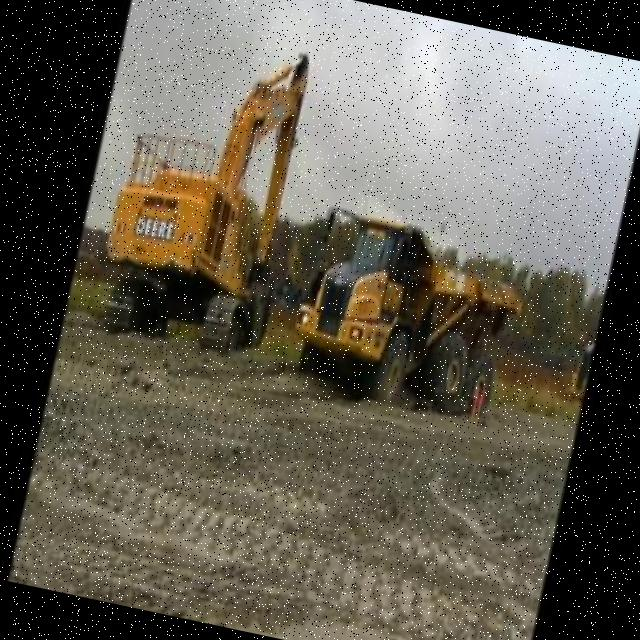Dump Truck: (284, 196, 536, 428)
Excavator: (84, 16, 323, 367)
